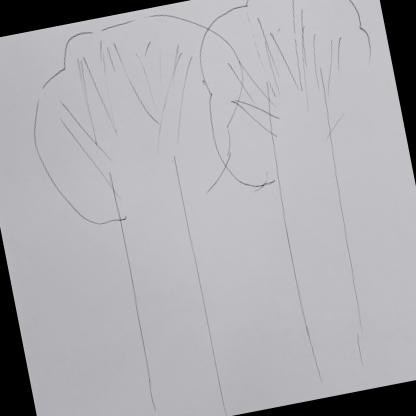branch_line: (44, 21, 214, 183), (212, 0, 359, 148)
crown_cloud: (14, 0, 265, 238), (184, 0, 395, 196)
trunk_straight: (119, 224, 217, 364), (272, 178, 364, 322)
